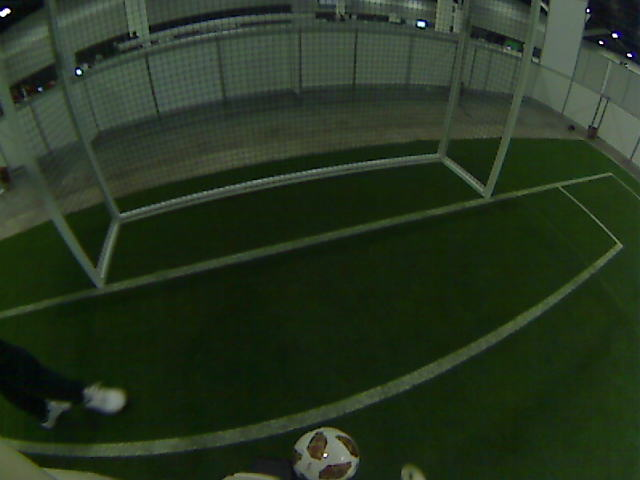ball: (296, 433, 358, 477)
goalpost: (79, 227, 119, 287), (467, 137, 507, 197)
